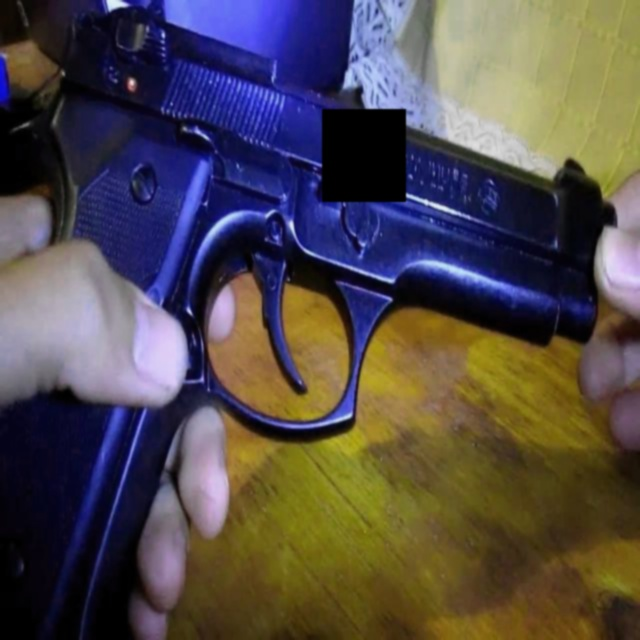gun: (7, 5, 622, 624)
